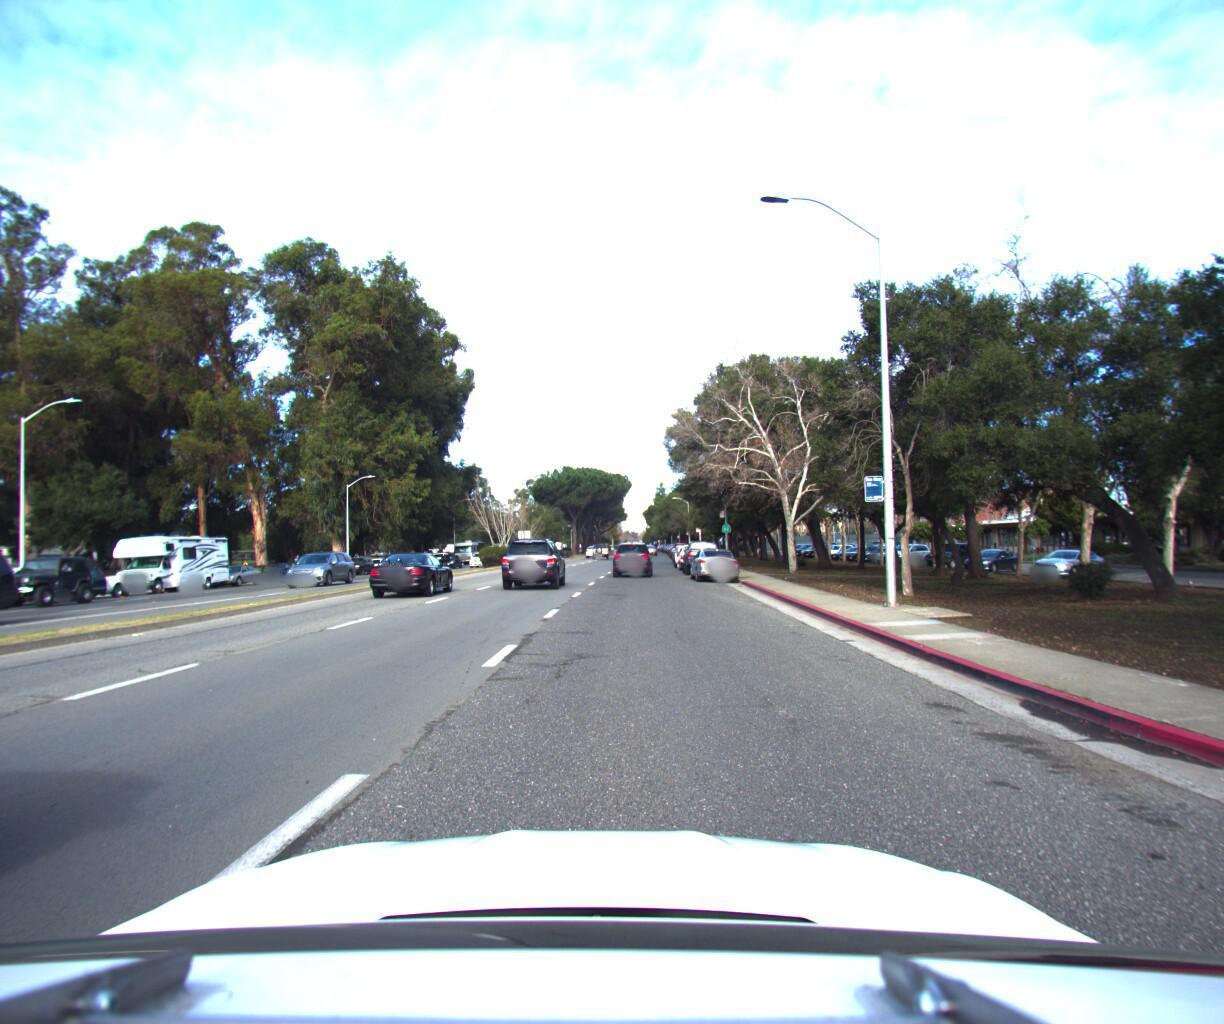car: (0, 547, 109, 605), (362, 542, 458, 596), (32, 556, 140, 598), (496, 526, 569, 587), (0, 536, 30, 650), (280, 540, 360, 580), (686, 536, 742, 577), (681, 529, 727, 569), (206, 553, 271, 582), (610, 532, 654, 570), (256, 552, 310, 576), (677, 530, 712, 564), (342, 544, 380, 568), (466, 541, 494, 560)
other_vehicle: (98, 520, 238, 588)
